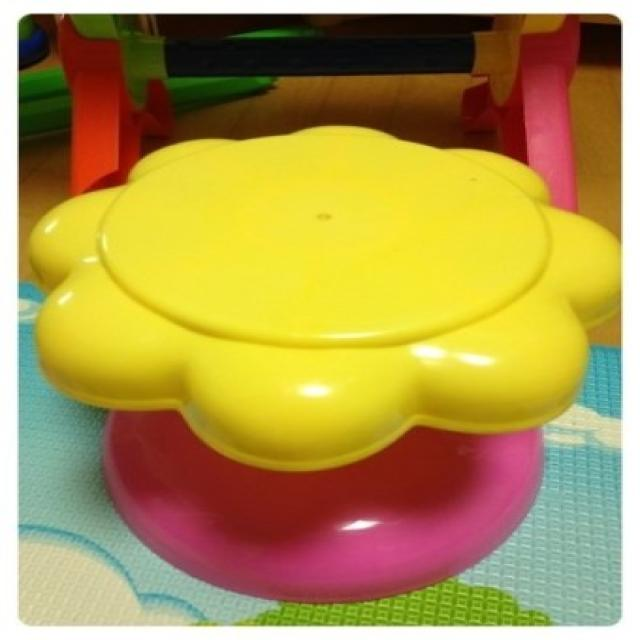Dry: (30, 128, 618, 603)
